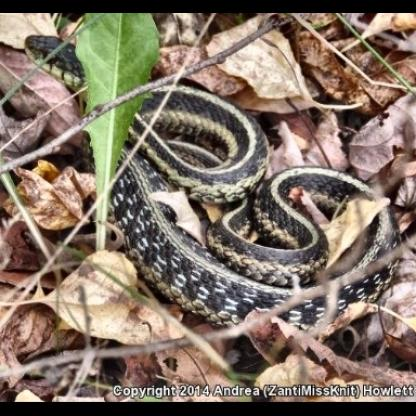Snake: (21, 24, 404, 337)
